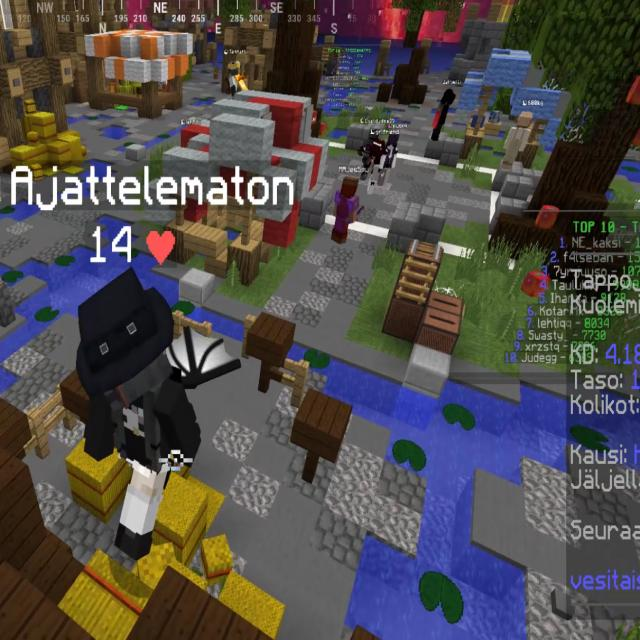Player: (75, 268, 202, 557)
